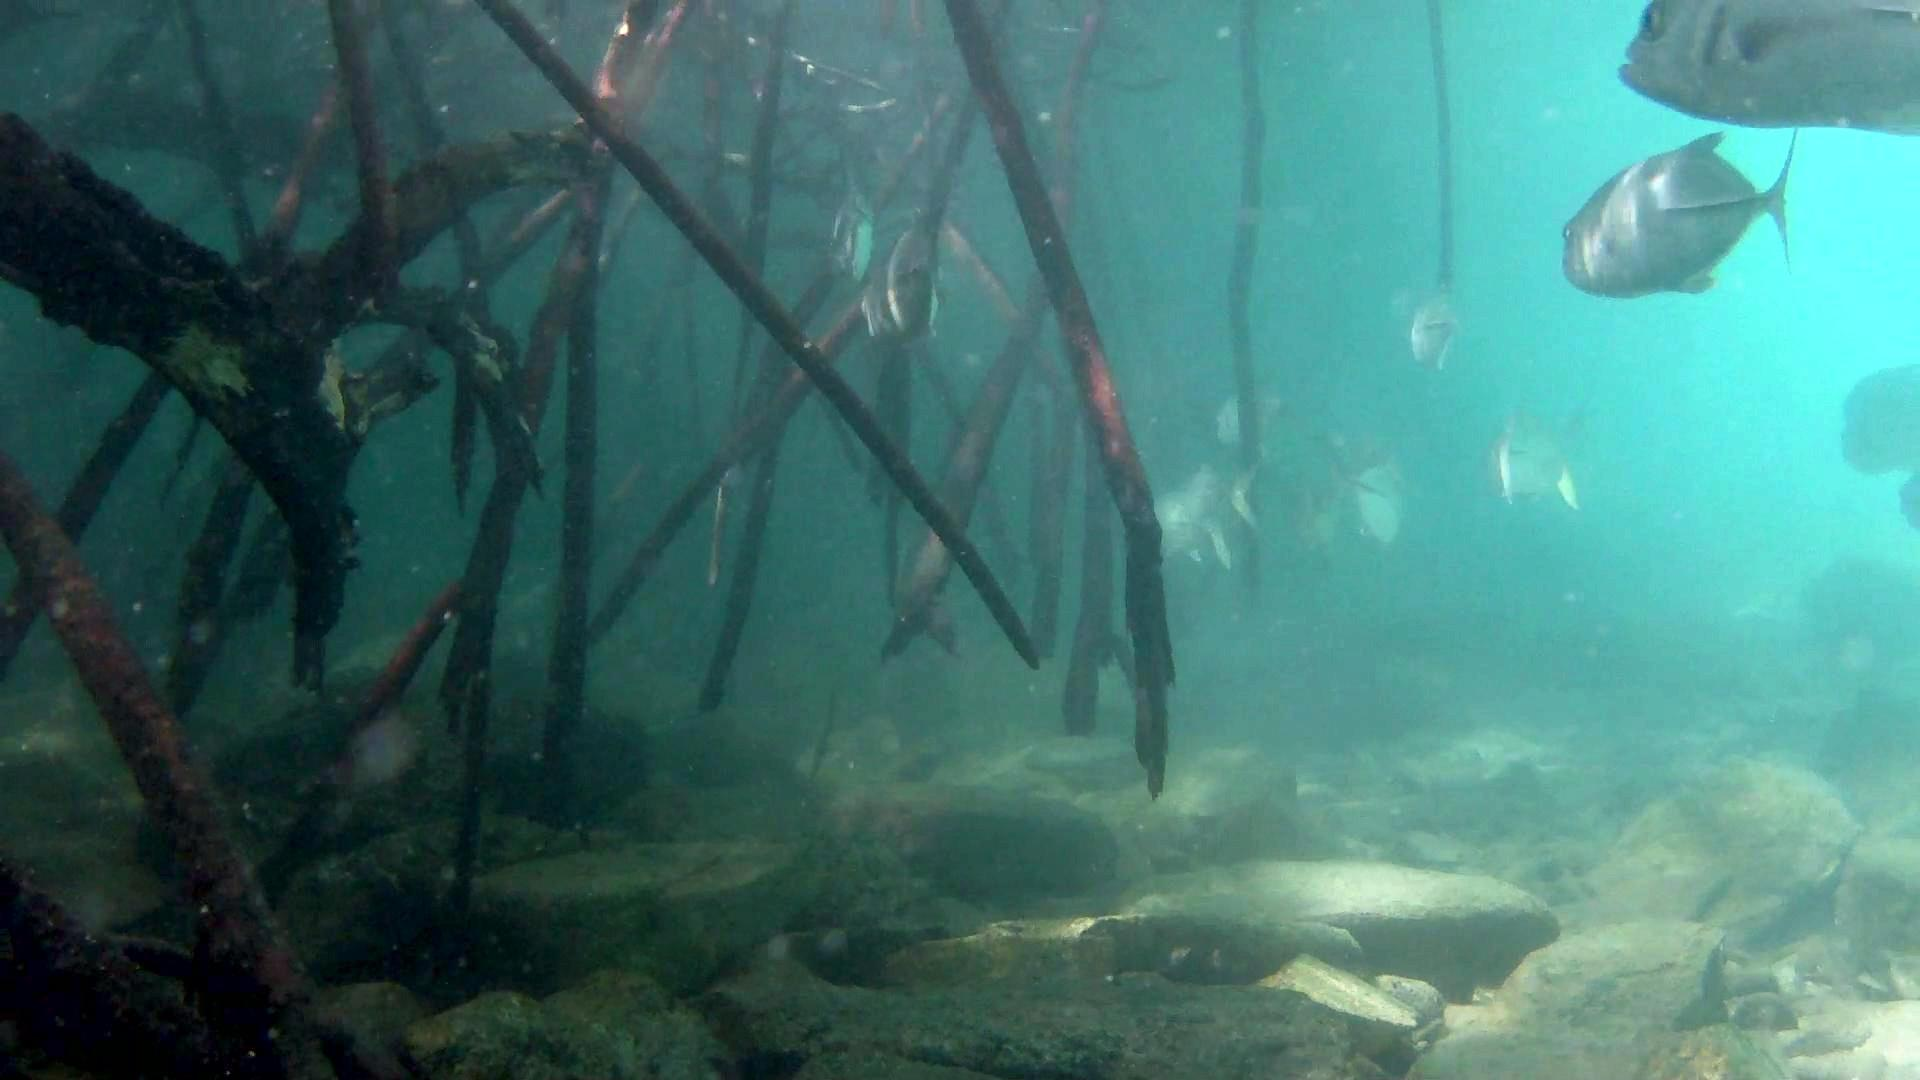caranx: (1556, 124, 1803, 303), (1611, 0, 1920, 142)
